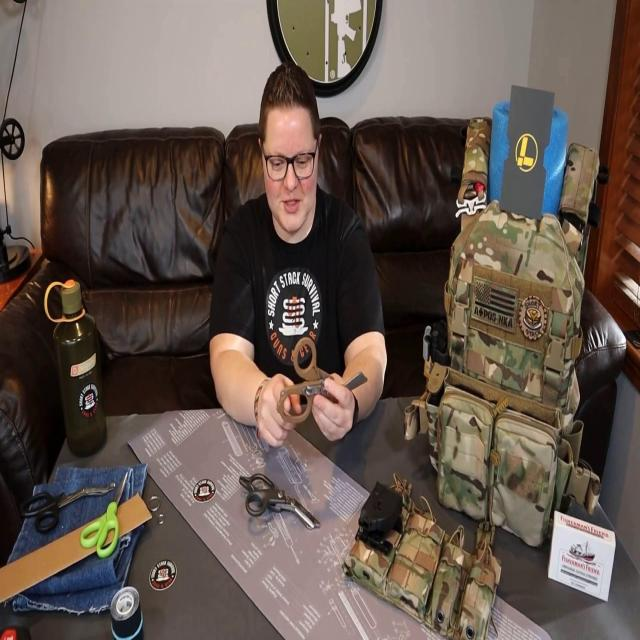scissor: (276, 337, 368, 422), (20, 482, 116, 531), (240, 473, 320, 529), (81, 472, 128, 559)
